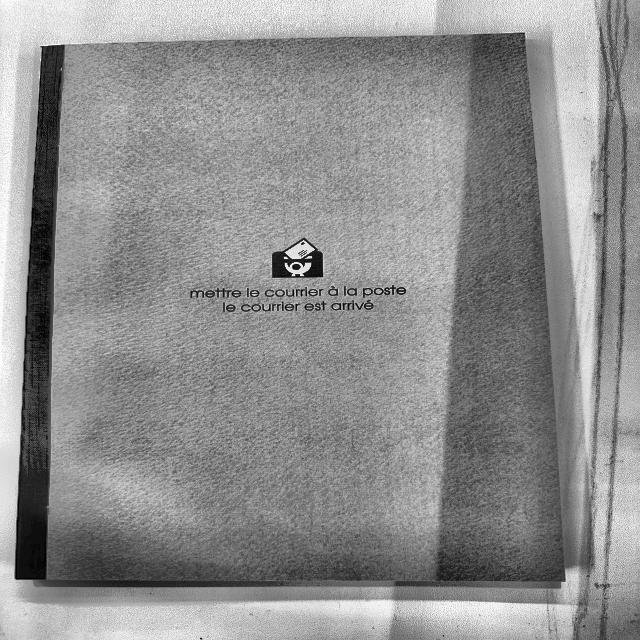Notebook: (11, 23, 589, 622)
